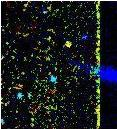star: (54, 31, 84, 61)
